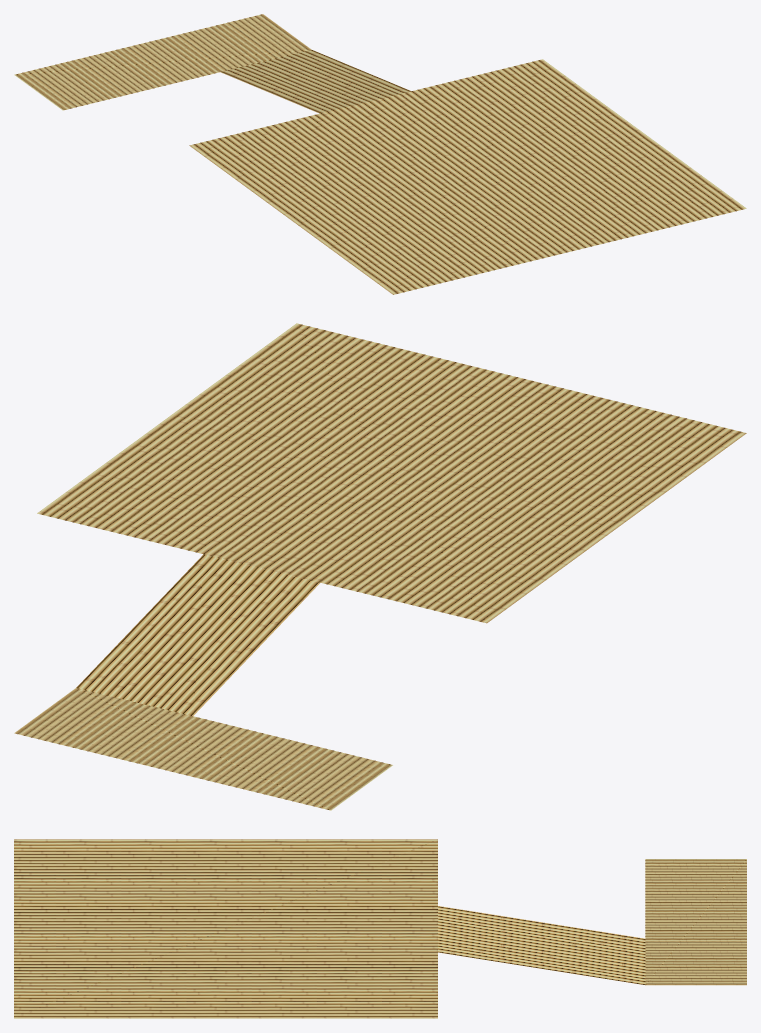
File: track1.gltf
The picture shows the model from 3 angles, top to bottom: view 1: azimuth 30°, elevation 25°; view 2: azimuth 150°, elevation 25°; view 3: azimuth 270°, elevation 25°; orthographic projection. The views are drawn at different scales.
Parts seen in each view (by area): view 1: starting_square, finnish_line, ramp; view 2: starting_square, finnish_line, ramp; view 3: starting_square, finnish_line, ramp.
Part boxes in pixels (<box>): starting_square: <box>189,59,746,294</box>; finnish_line: <box>14,14,311,110</box>; ramp: <box>220,50,410,113</box>; starting_square: <box>37,323,746,623</box>; finnish_line: <box>14,688,392,810</box>; ramp: <box>76,554,319,716</box>; starting_square: <box>14,839,437,1018</box>; finnish_line: <box>645,859,746,985</box>; ramp: <box>438,906,645,985</box>.
Size of the model in its own units: 17.19 by 1.37 by 27.66.
1 material, 1 textured.
